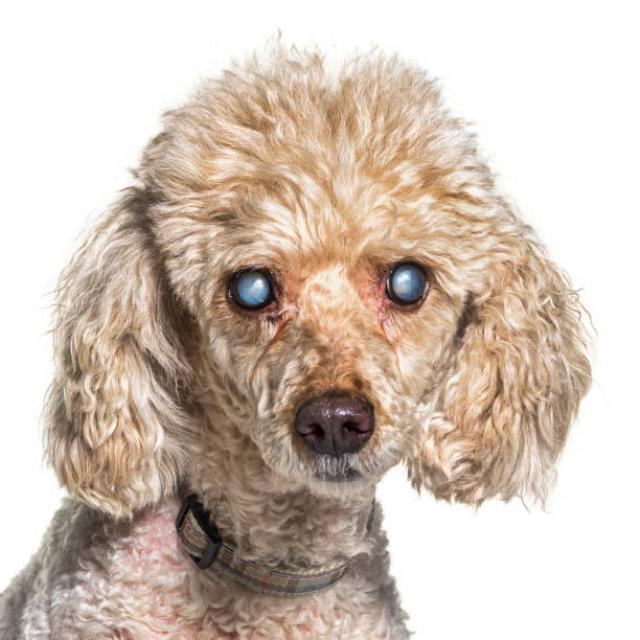eye: (219, 259, 281, 317), (378, 254, 434, 312)
